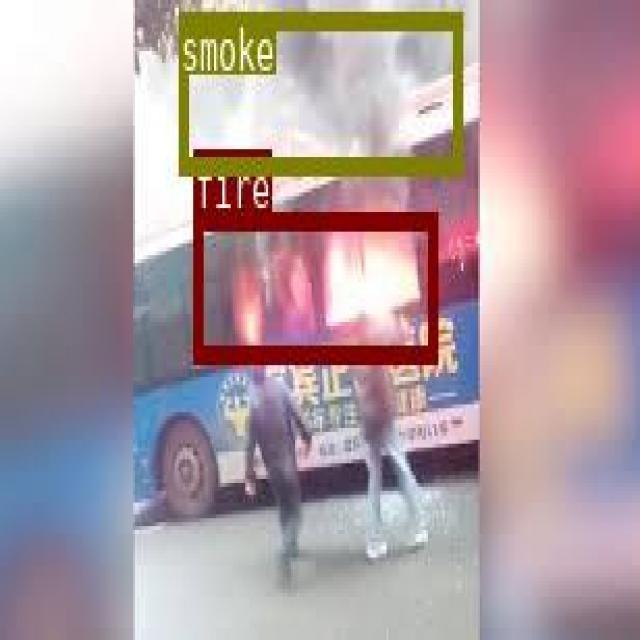fire: (192, 210, 435, 360)
smoke: (177, 10, 460, 171)
